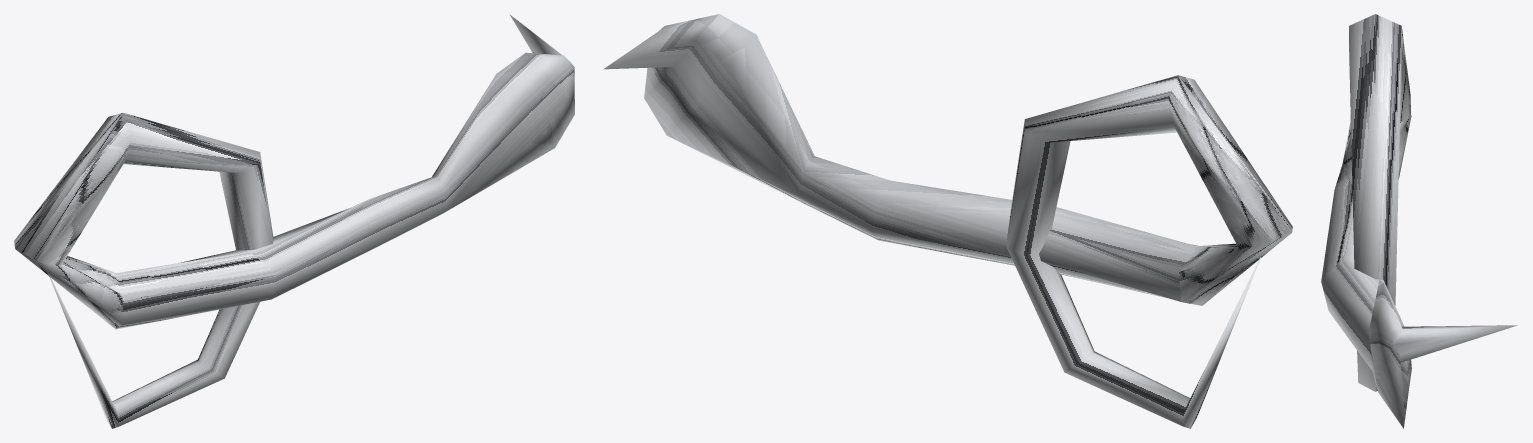
The model's file is snake_000055.obj.
3 renders of one model, left to right at view 1: azimuth 30°, elevation 25°; view 2: azimuth 150°, elevation 25°; view 3: azimuth 270°, elevation 25°, orthographic. The views are drawn at different scales.
Visible parts, largest first — view 1: Cylinder; view 2: Cylinder; view 3: Cylinder.
Boxes of the visible parts, left/top/right/bottom form: Cylinder: left=14, top=14, right=574, bottom=428; Cylinder: left=603, top=14, right=1292, bottom=428; Cylinder: left=1321, top=14, right=1517, bottom=428.
Bounding box in the file's own units: 4.64 × 2.44 × 1.24.
